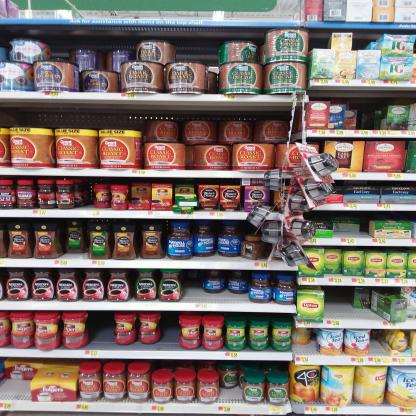Void: (5, 103, 142, 126), (178, 32, 218, 63), (192, 291, 252, 305), (331, 289, 356, 320), (0, 376, 29, 399), (363, 92, 380, 130), (162, 317, 181, 349), (94, 318, 113, 343), (373, 331, 388, 356)
